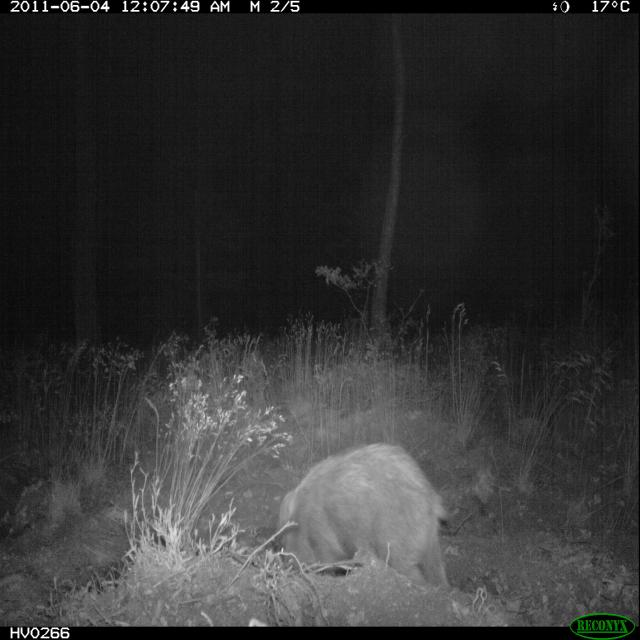boar: (248, 432, 459, 590)
